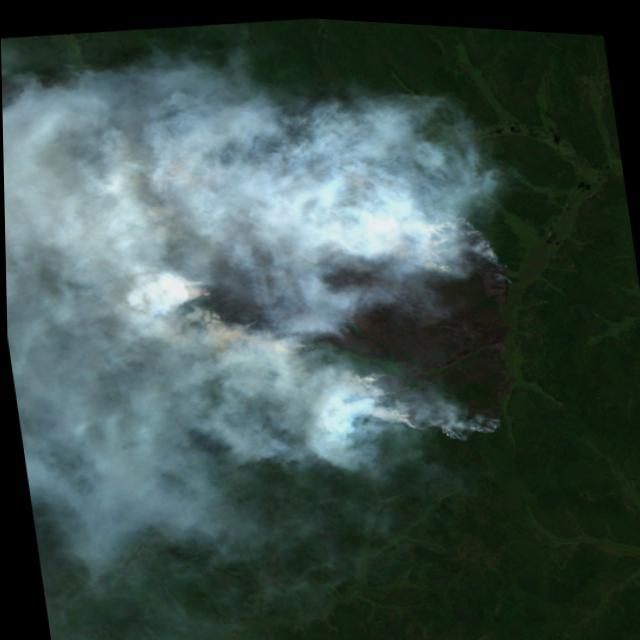fire: (127, 104, 535, 479)
